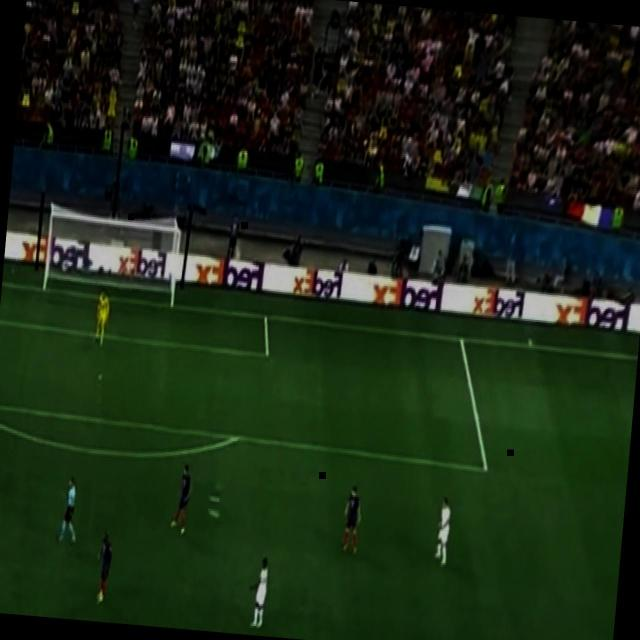player-white: (53, 472, 85, 550), (245, 553, 273, 635), (91, 526, 117, 610), (338, 479, 365, 558), (430, 490, 456, 570), (168, 461, 194, 541), (92, 284, 115, 352)
